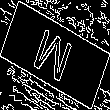M_SW: (31, 22, 79, 88)
